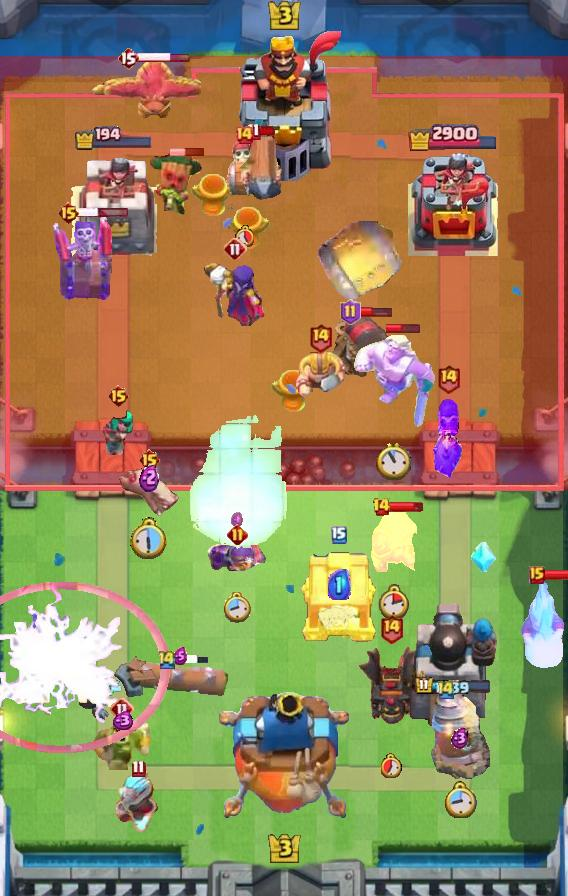archer-evolution: (358, 644, 424, 728)
axe: (203, 260, 267, 326)
barbarian-evolution: (0, 582, 171, 755)
battle-healer: (239, 130, 287, 206)
bomb: (299, 549, 379, 643)
dirt: (315, 213, 405, 305)
electro-spirit: (329, 569, 352, 600), (139, 463, 159, 492), (110, 710, 134, 729), (451, 727, 469, 749), (173, 647, 187, 665), (232, 512, 244, 528)
elixir: (131, 516, 170, 559), (376, 442, 412, 480), (443, 781, 477, 819), (379, 584, 409, 620), (223, 592, 251, 624), (382, 754, 403, 779), (234, 225, 253, 247)
emote: (137, 52, 191, 63), (77, 206, 129, 217), (388, 501, 424, 513), (174, 653, 210, 665), (387, 322, 422, 334), (359, 306, 393, 318), (170, 147, 206, 157), (542, 569, 568, 581), (258, 125, 278, 137)
firecracker-evolution: (371, 504, 417, 572), (206, 540, 268, 574)
flying-machine: (92, 720, 152, 770)
giant: (116, 466, 182, 520)
goblin-ball: (431, 399, 465, 481)
goblin-barrel: (146, 153, 204, 219)
goblin-giant: (294, 350, 346, 398)
goblin-hut: (350, 330, 436, 430)
king-tower: (223, 31, 345, 181), (219, 692, 349, 826)
knight: (222, 140, 266, 198)
magic-archer: (430, 688, 490, 780)
mega-knight: (186, 413, 289, 550)
minion: (127, 660, 233, 698)
mortar: (518, 580, 568, 672), (115, 769, 161, 833)
mother-witch: (89, 57, 201, 125)
pad_2: (471, 542, 497, 574)
queen-tower: (408, 152, 498, 256), (71, 156, 157, 256)
royal-giant-evolution: (327, 310, 395, 380)
selected: (407, 122, 499, 151), (74, 126, 154, 151), (414, 675, 492, 697)
skeleton-king-bar: (50, 211, 112, 301)
text: (307, 322, 332, 353), (380, 613, 405, 644), (435, 363, 460, 393), (223, 237, 247, 261), (110, 697, 134, 721), (56, 201, 79, 225), (106, 384, 129, 408), (139, 448, 162, 472), (339, 299, 360, 325), (117, 46, 139, 70), (227, 523, 248, 545), (157, 649, 177, 671), (436, 679, 456, 700), (234, 125, 254, 145), (372, 497, 391, 517), (331, 526, 347, 544), (529, 566, 545, 584), (131, 759, 146, 777), (247, 122, 261, 141)
tower-bar: (408, 599, 498, 731)
witch: (102, 408, 134, 456)
